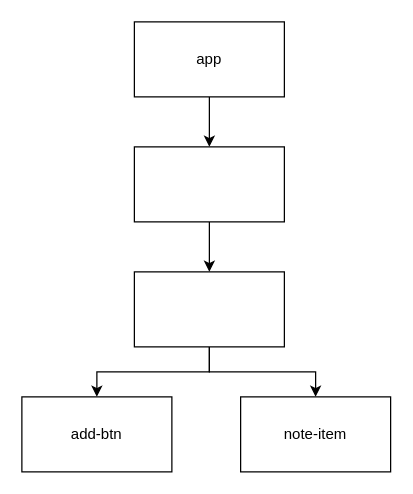
Image size: 413x494. Some labels were removed from this diagram. Each missing label, with the centre of its shape:
"header" belongs at [208,184].
"notes" belongs at [208,309].
